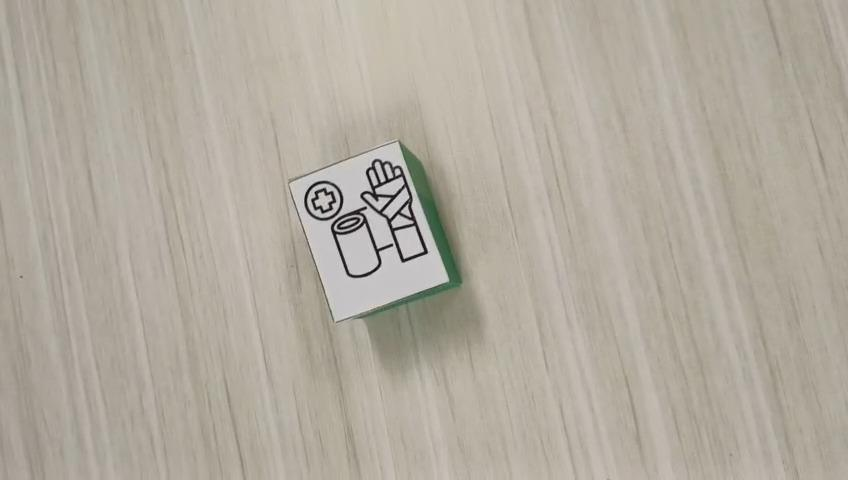Bandages: (287, 139, 463, 324)
